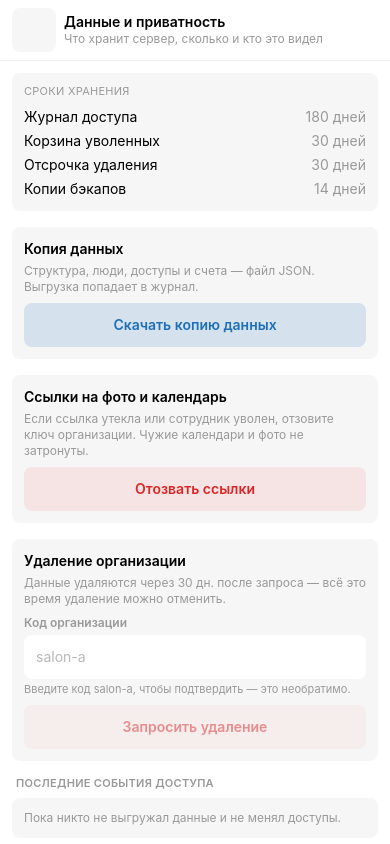
PrivacyScreen › отзывает ссылки организации только после подтверждения
Click the button "Отозвать ссылки".
click(195, 489)  # box [24,467,366,511]
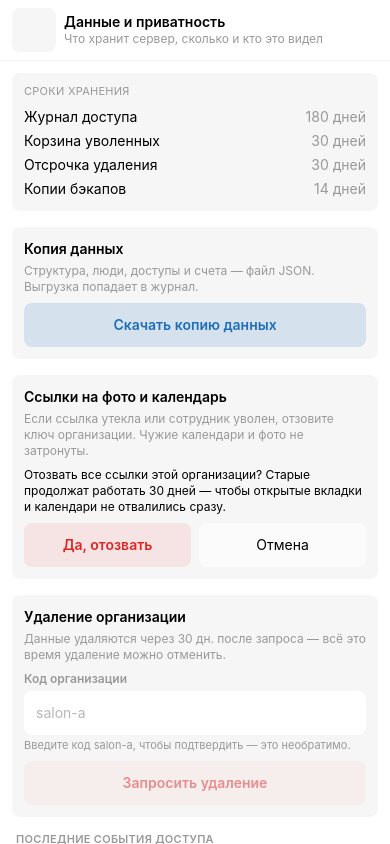
Click the button "Да, отозвать".
click(108, 545)  # box [24,523,191,567]
(page scrolled)
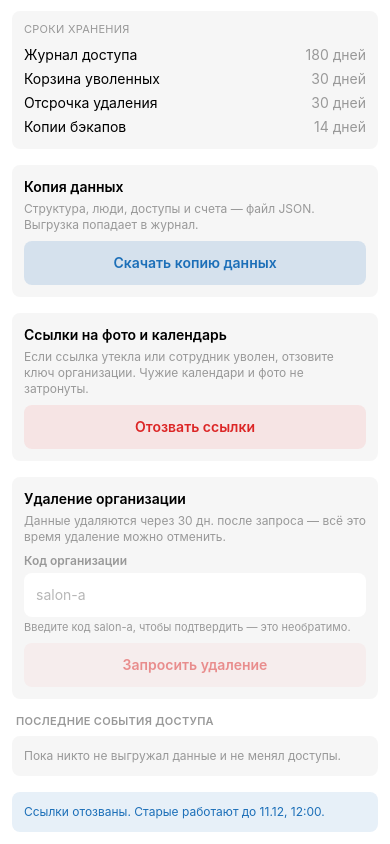
Result: the text "Ссылки отозваны. Старые работают до 11.12, 12:00." is shown at [12,792,378,832]
